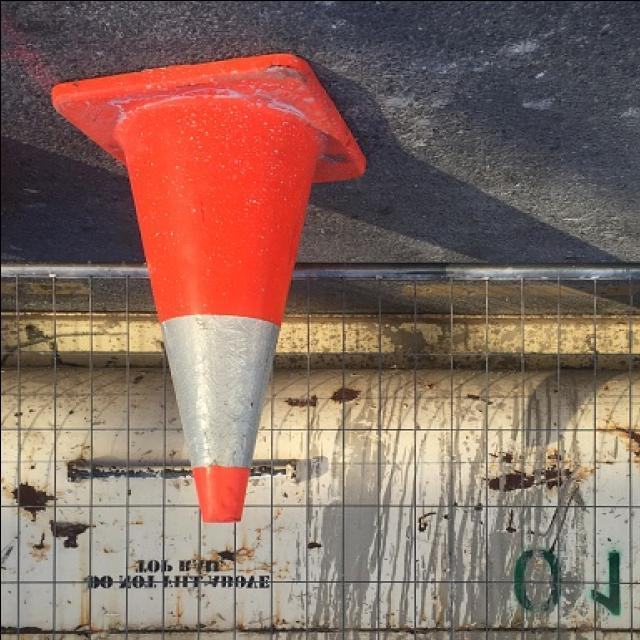traffic cone: (50, 52, 368, 524)
